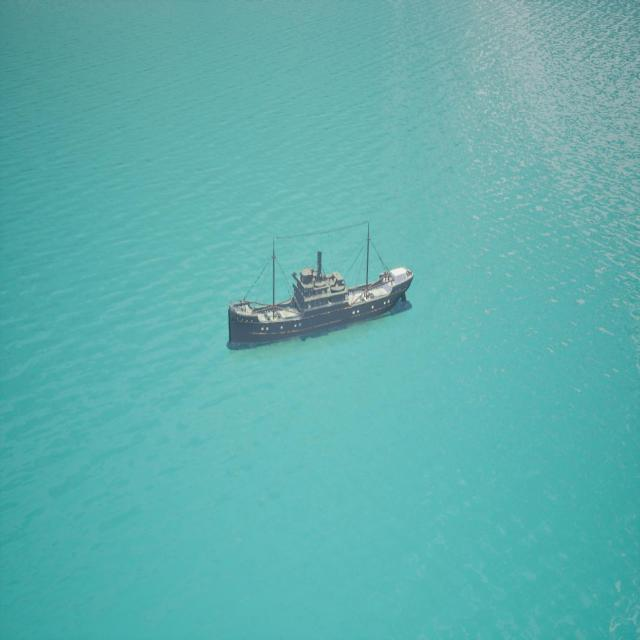fishing ship: (229, 238, 416, 351)
